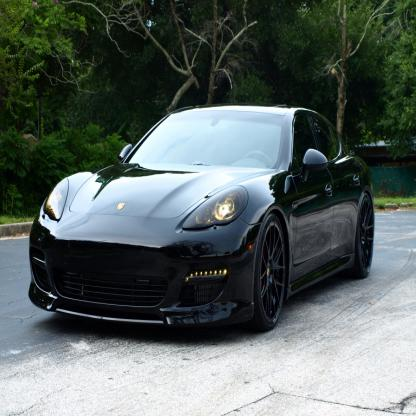car: (29, 105, 376, 332)
